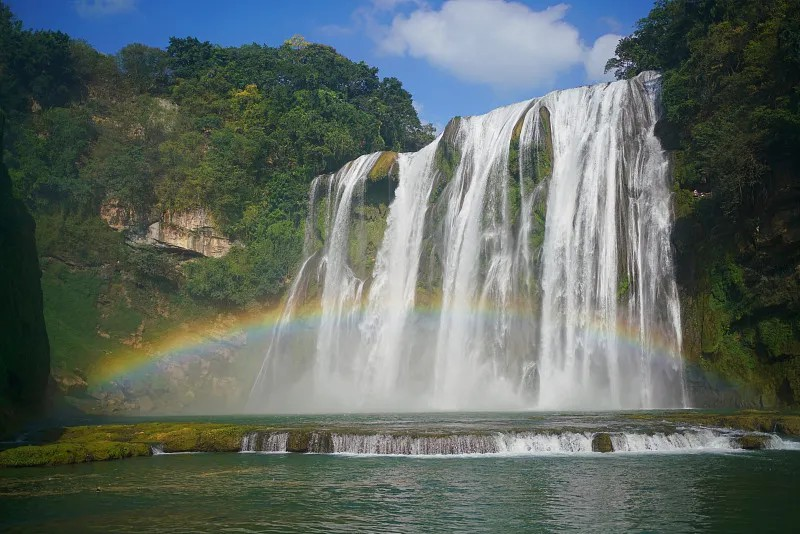Huangguoshu: (247, 69, 683, 410)
